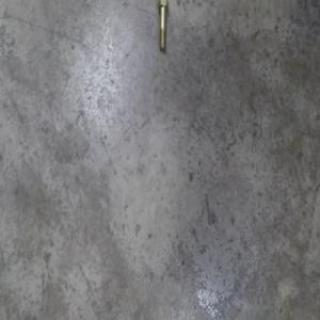Bolttrack_idkeyframe: (156, 2, 170, 53)
